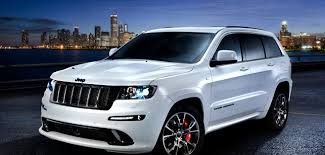mobil: (37, 23, 292, 148)
